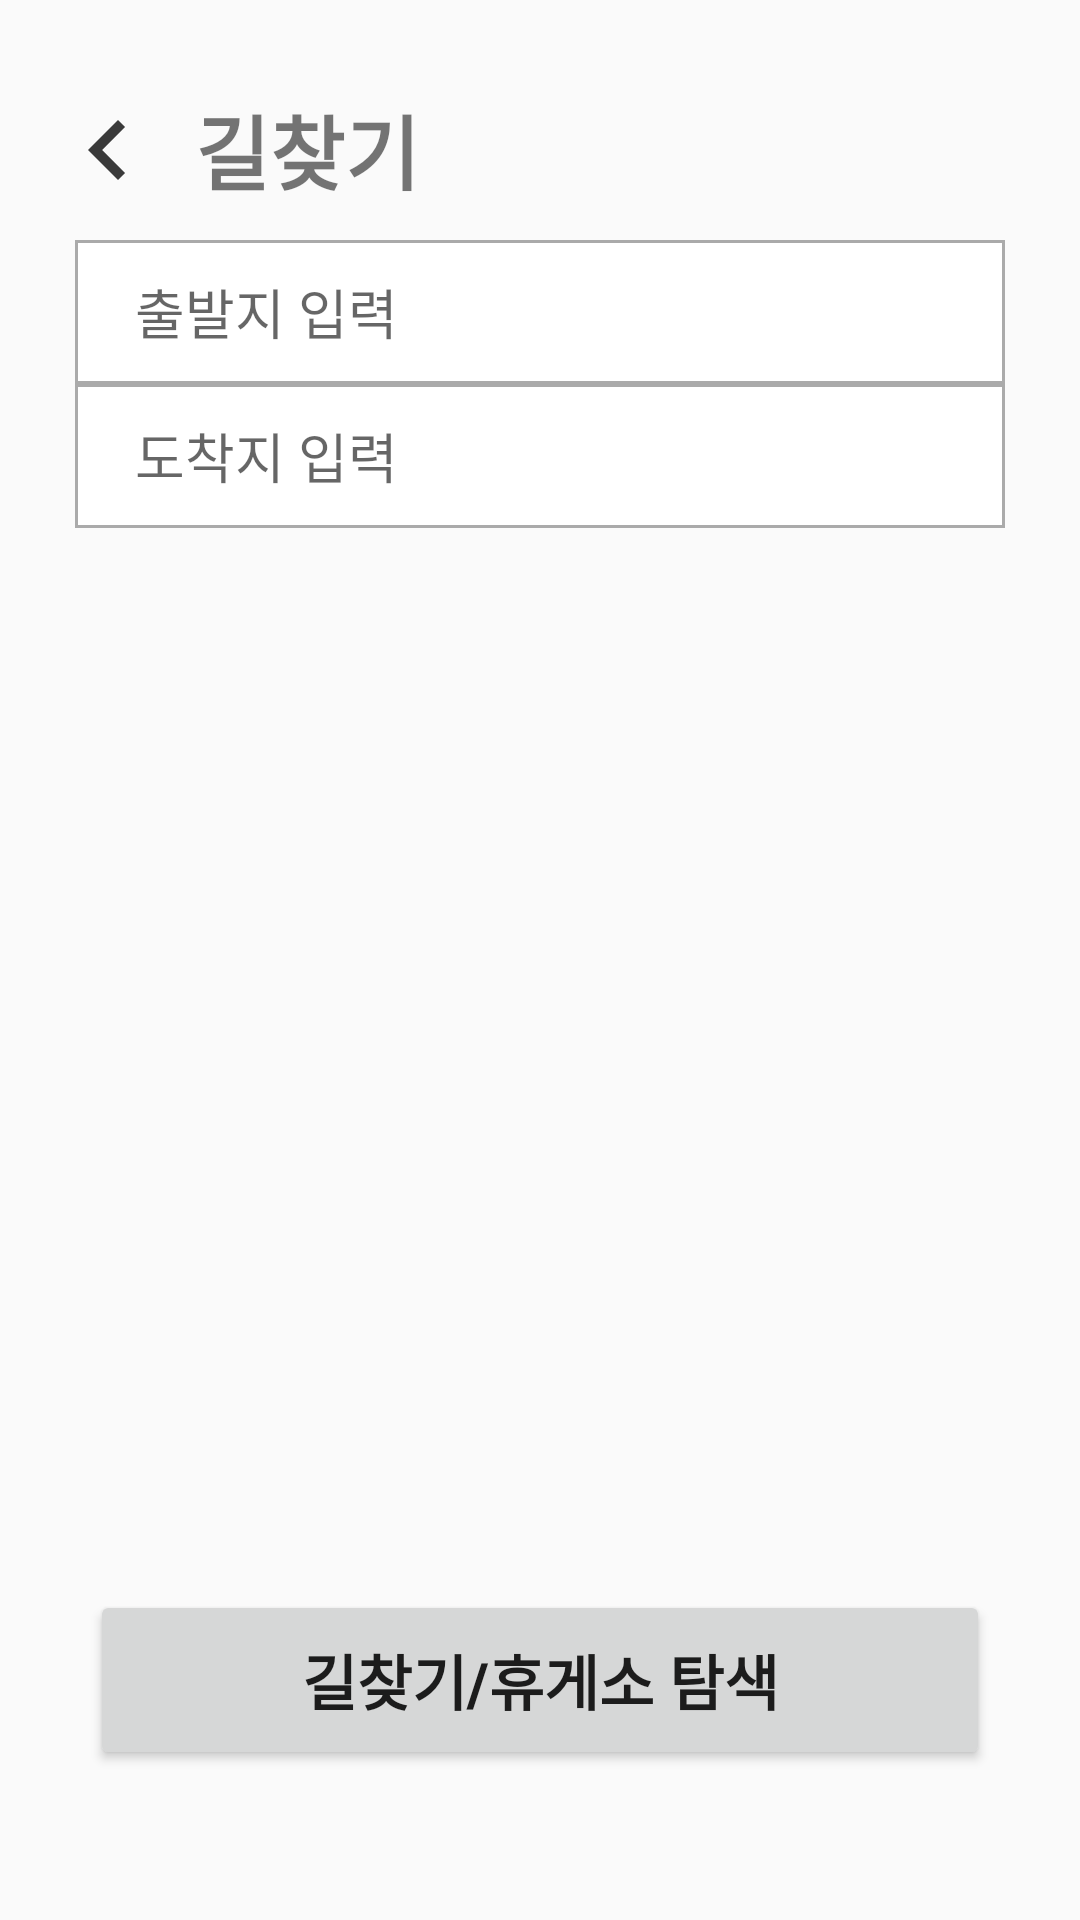

Point at icon controls on the screen. Image size 1080w x 1920h, points as (x,y).
뒤로가기: (106,150)
